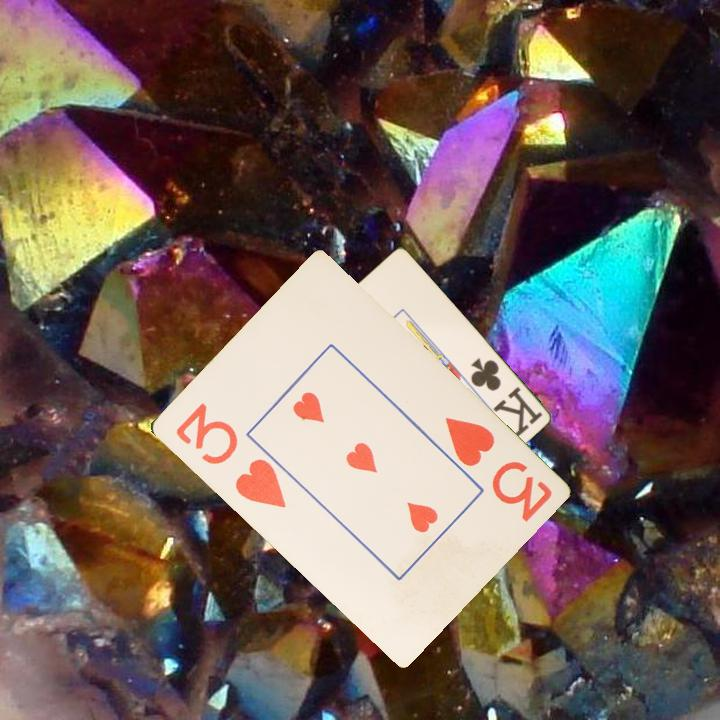3h: (171, 399, 289, 512), (440, 413, 555, 525)
Kc: (467, 354, 545, 439)
